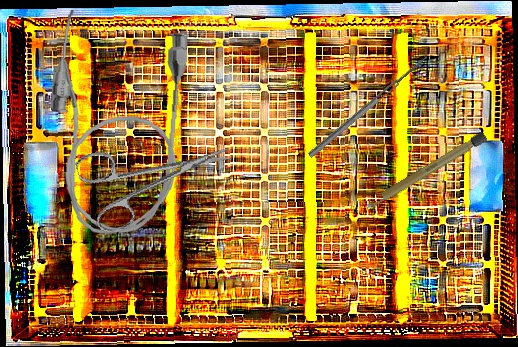Cannula: (42, 8, 190, 240)
Iris Scissors: (73, 116, 243, 238)
Scalpel Handle: (362, 130, 488, 213)
Spatula Surgical: (303, 45, 435, 159)
